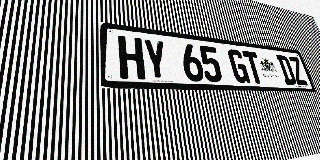5: (199, 45, 224, 82)
6: (180, 43, 205, 82)
D: (276, 55, 297, 85)
G: (227, 49, 251, 83)
H: (118, 35, 146, 80)
T: (242, 51, 265, 84)
Y: (142, 38, 169, 80)
Z: (287, 56, 308, 85)
